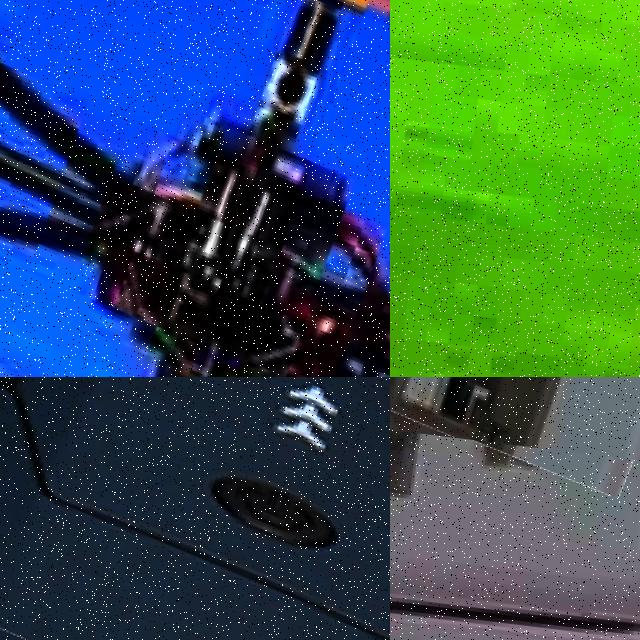0: (0, 0, 390, 377)
drone: (0, 377, 390, 640), (390, 377, 640, 463)
